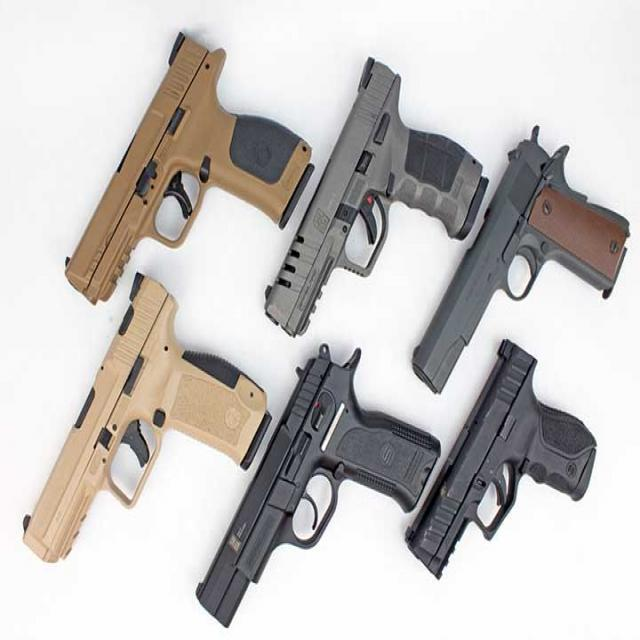pistol: (9, 278, 268, 582), (53, 29, 316, 304), (266, 54, 492, 344), (209, 363, 424, 625), (424, 131, 628, 371), (426, 357, 608, 590)
